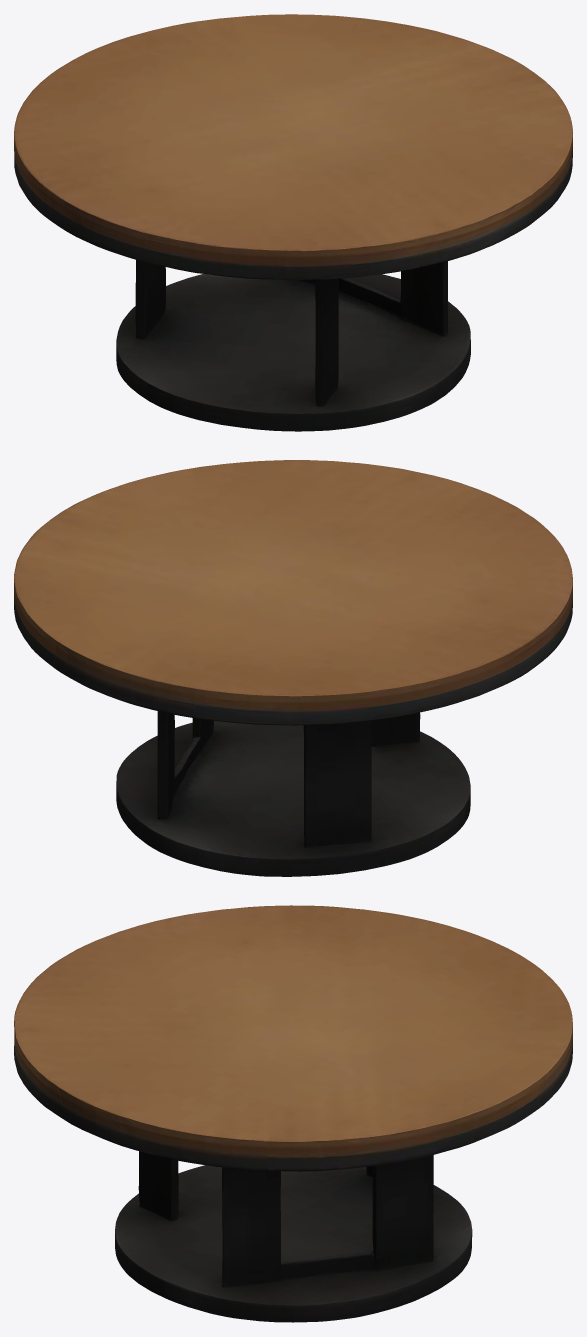
Rendered from table_coffee_round_wood_2.glb.
3 views of the same model, one above another, from view 1: azimuth 30°, elevation 25°; view 2: azimuth 150°, elevation 25°; view 3: azimuth 270°, elevation 25° (orthographic).
Parts seen in each view (by area): view 1: geometry_0; view 2: geometry_0; view 3: geometry_0.
Boxes of the visible parts, left/top/right/bottom form: geometry_0: left=14, top=14, right=572, bottom=431; geometry_0: left=14, top=460, right=572, bottom=876; geometry_0: left=14, top=905, right=572, bottom=1322.
Bounding box in the file's own units: 1 × 0.4434 × 1.
1 material, 1 textured.
